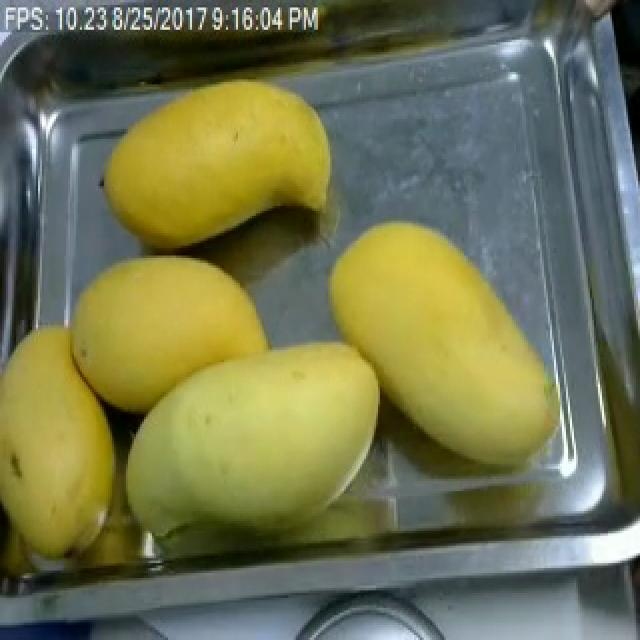fruit: (308, 194, 576, 498), (108, 318, 406, 570), (88, 62, 348, 260), (56, 243, 282, 432), (0, 318, 130, 570), (256, 585, 472, 640)
